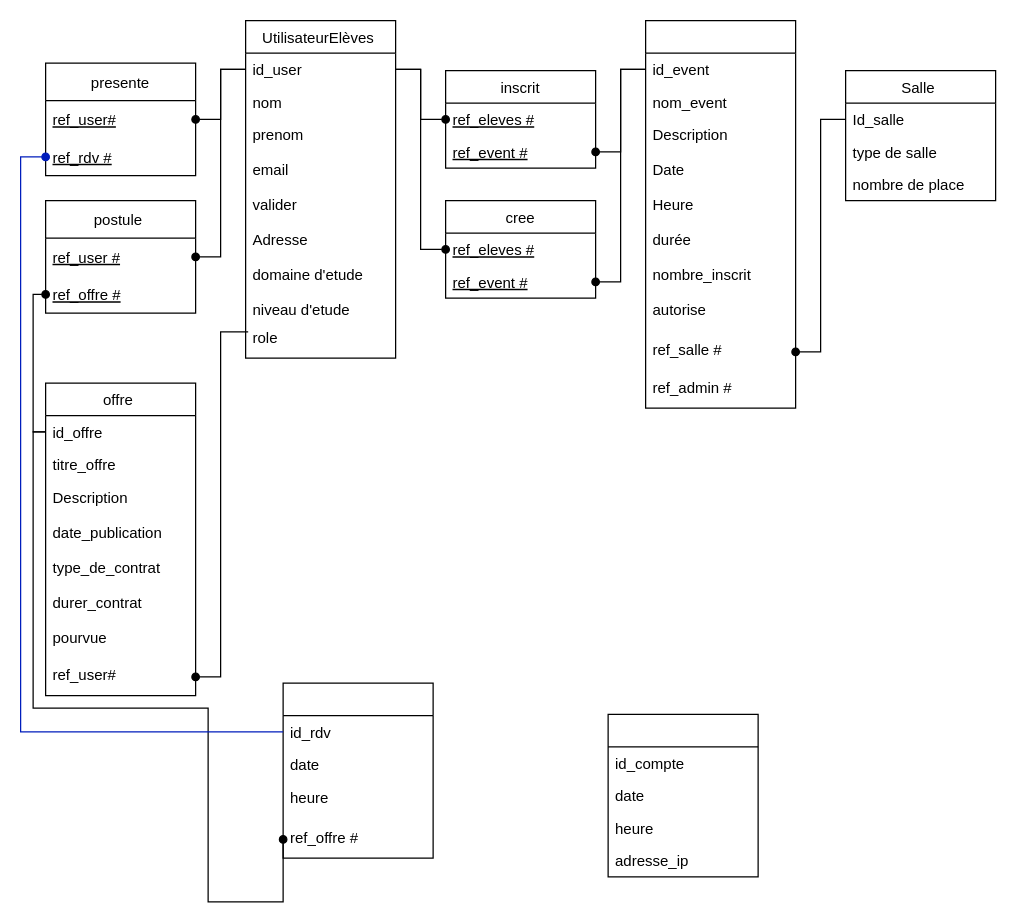
The diagram is 1016 pixels wide and 923 high, and some of its shapes have lost their labels. The box of each missing label's shape, as (x1, y1, x2, y2) in pixels:
Evenement: (644, 19, 796, 408)
Logs: (607, 713, 758, 877)
rendez-vous: (282, 682, 433, 858)
